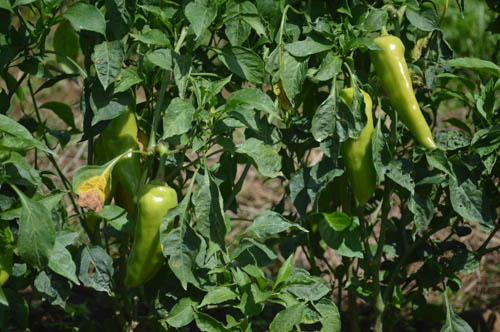ChiliPepper: (376, 37, 435, 148), (121, 185, 178, 290), (337, 88, 376, 203), (103, 112, 140, 190)
